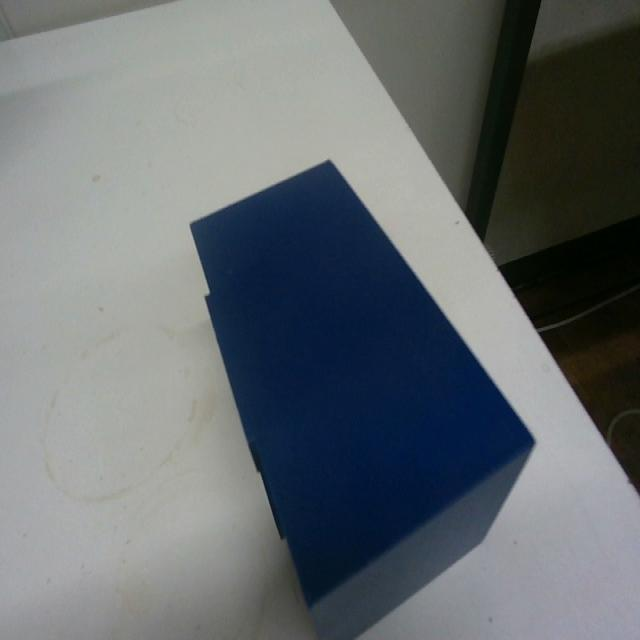Blue Cuboid: (187, 155, 536, 634)
